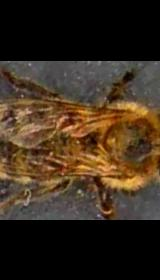varroa_mite: (50, 107, 78, 134)
